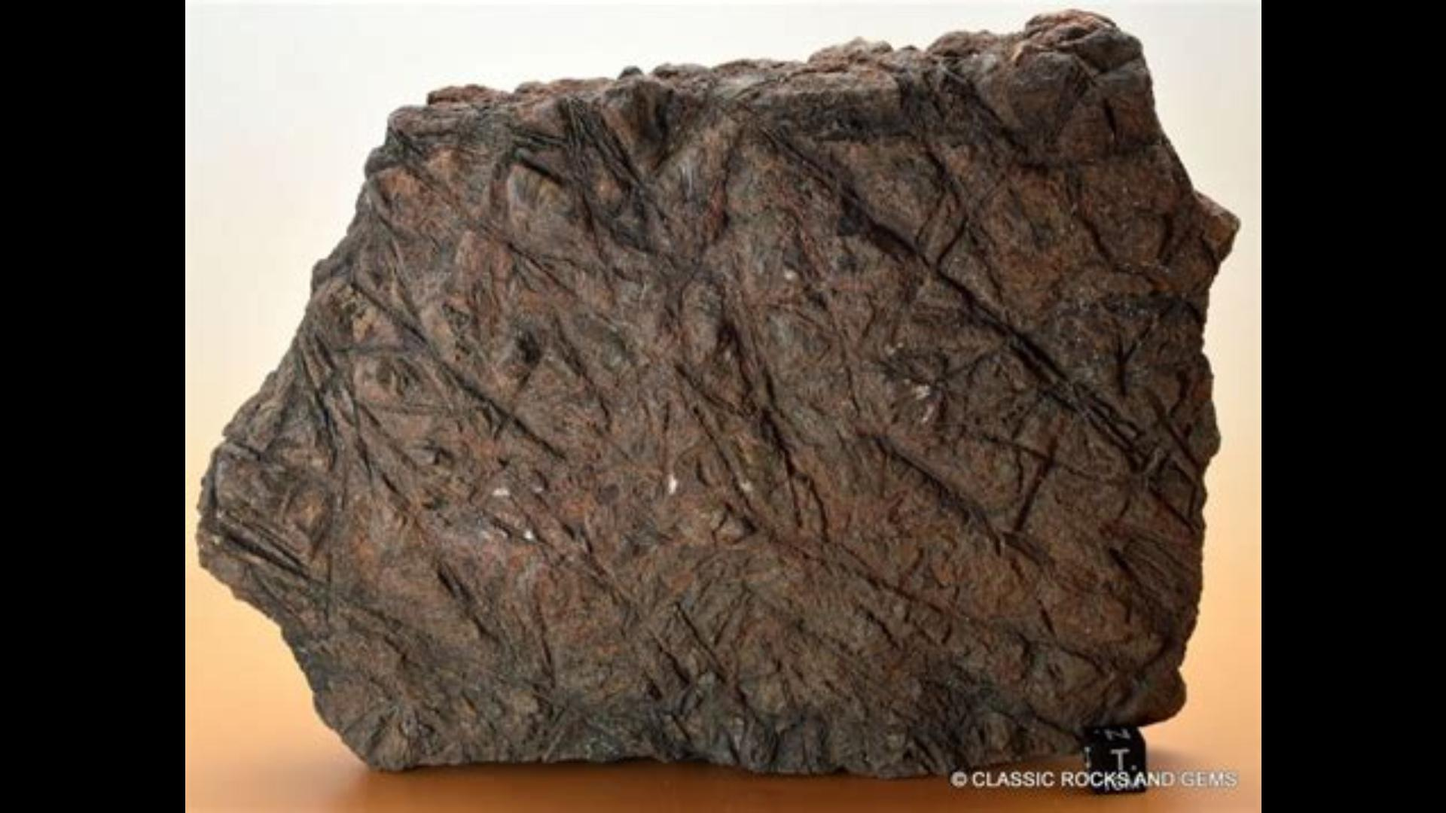rock: (200, 11, 1234, 772)
